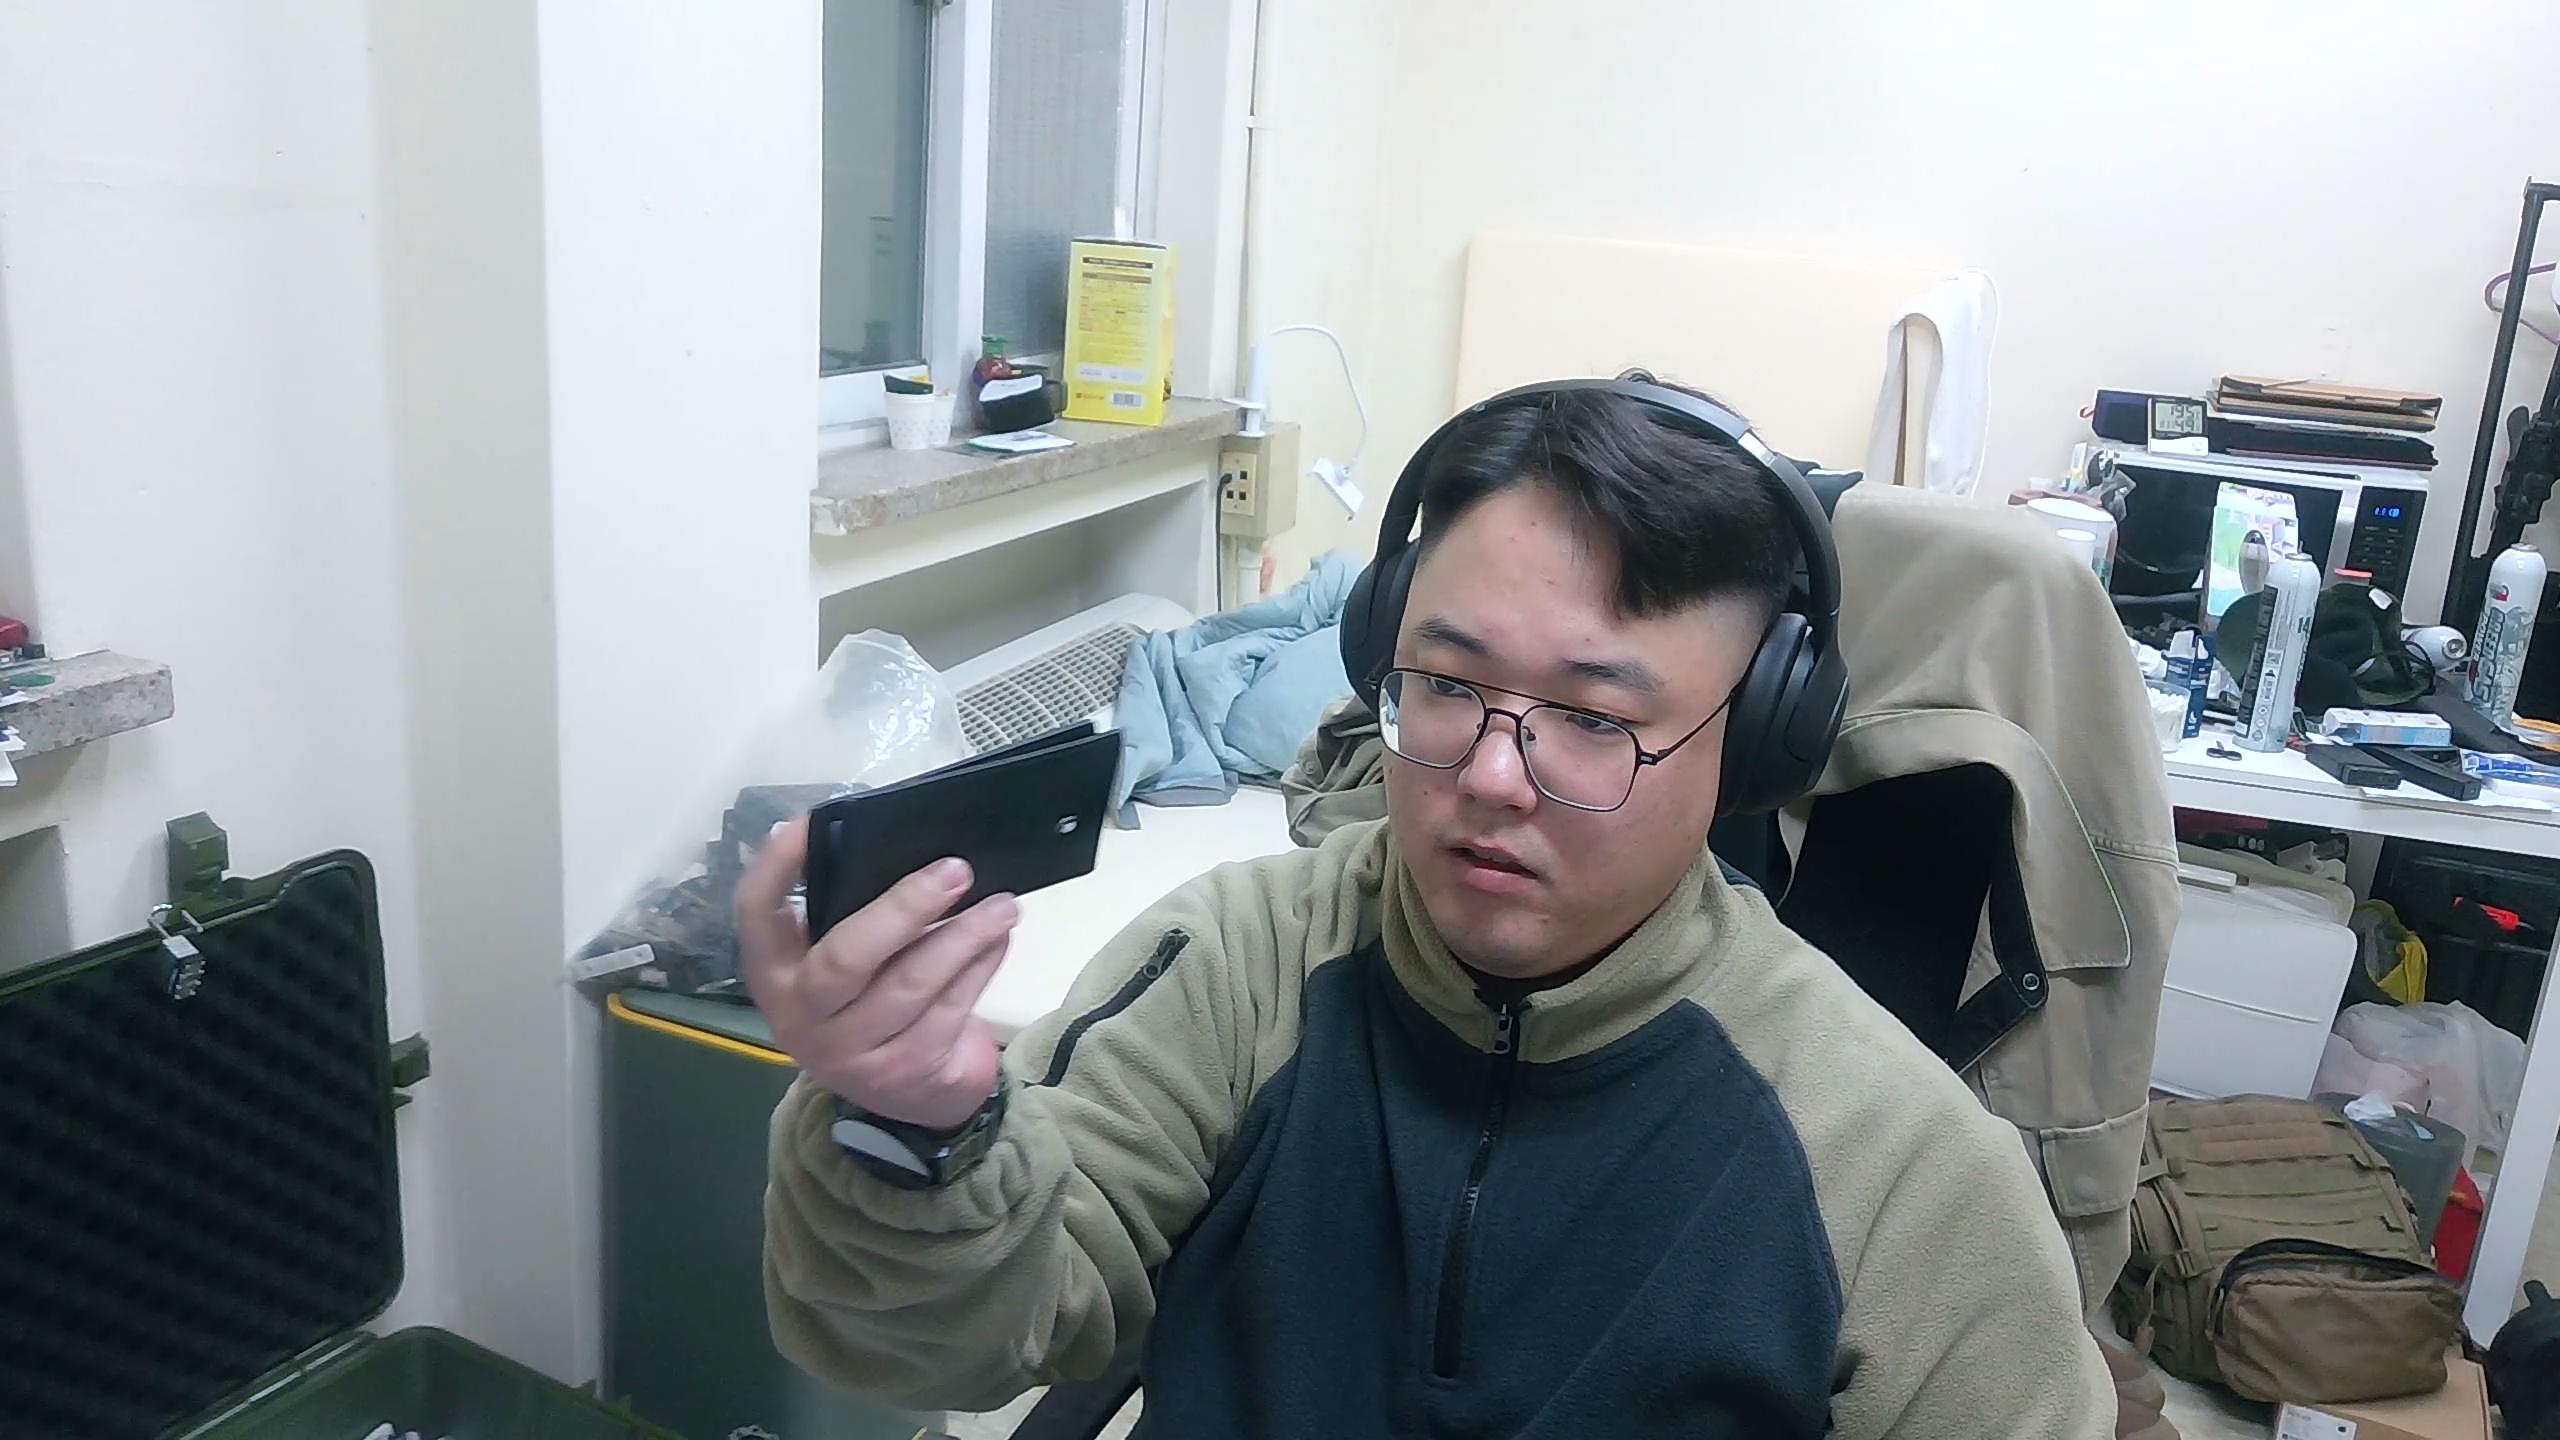Wallet: (800, 719, 1127, 951)
